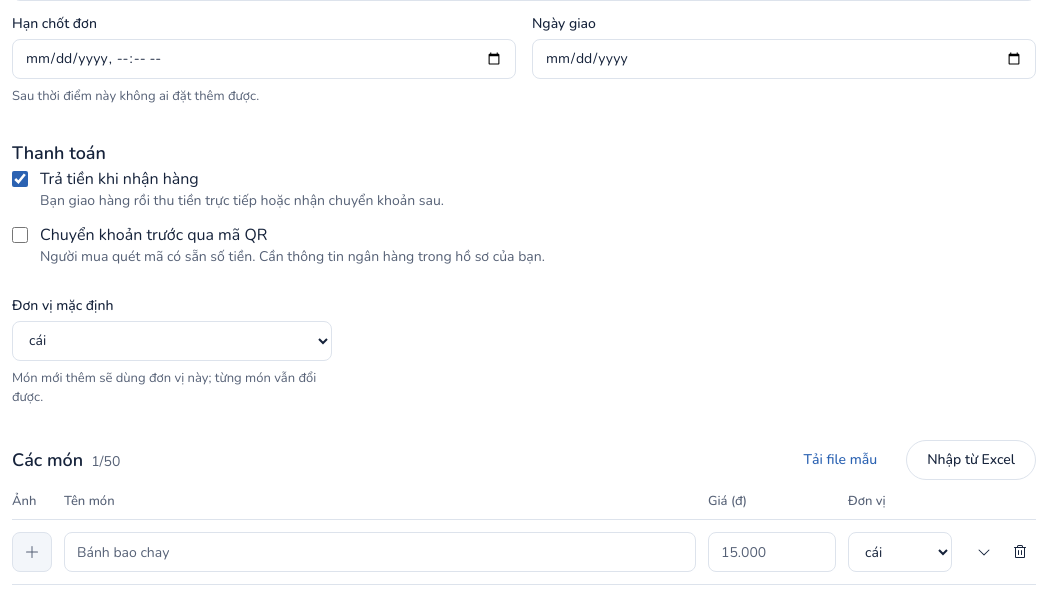
it: CampaignForm › a new round › opens the photos from the “+” of a row without a photo
The image size is (1048, 594).
(page scrolled)
What coordinates should you click on to do the following:
click the button named "Thêm ảnh cho món 1"
I would click on:
 (32, 552)
Its box is 12,532 -> 52,572.
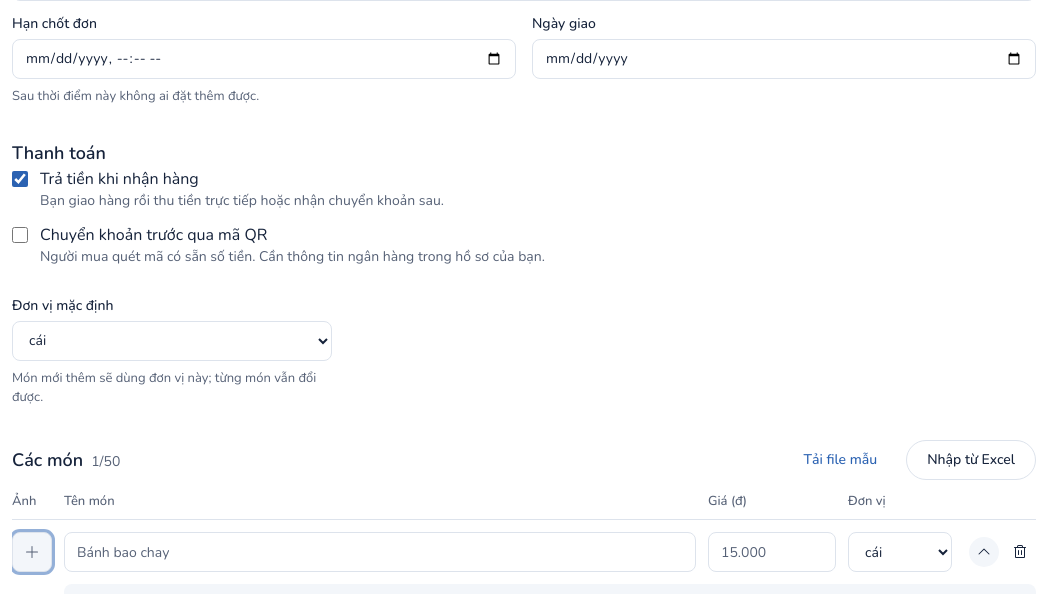
Now the button named "Thu gọn món 1" is expanded, box 968,536 -> 1000,568
